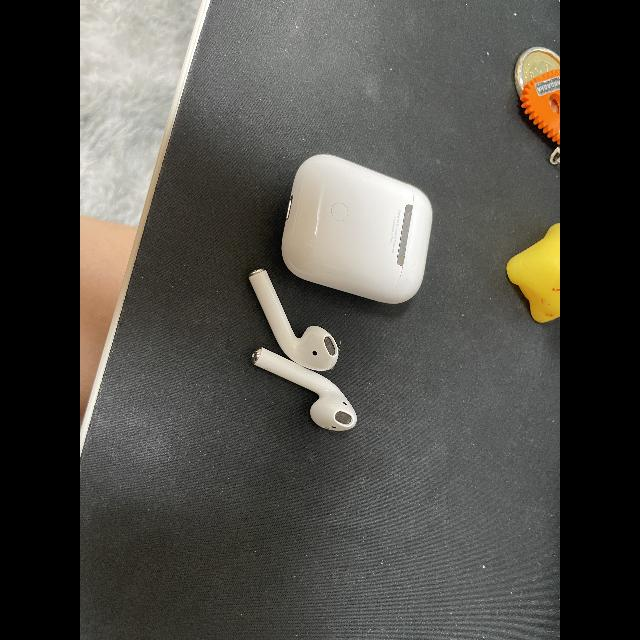airpod2: (229, 134, 441, 440)
